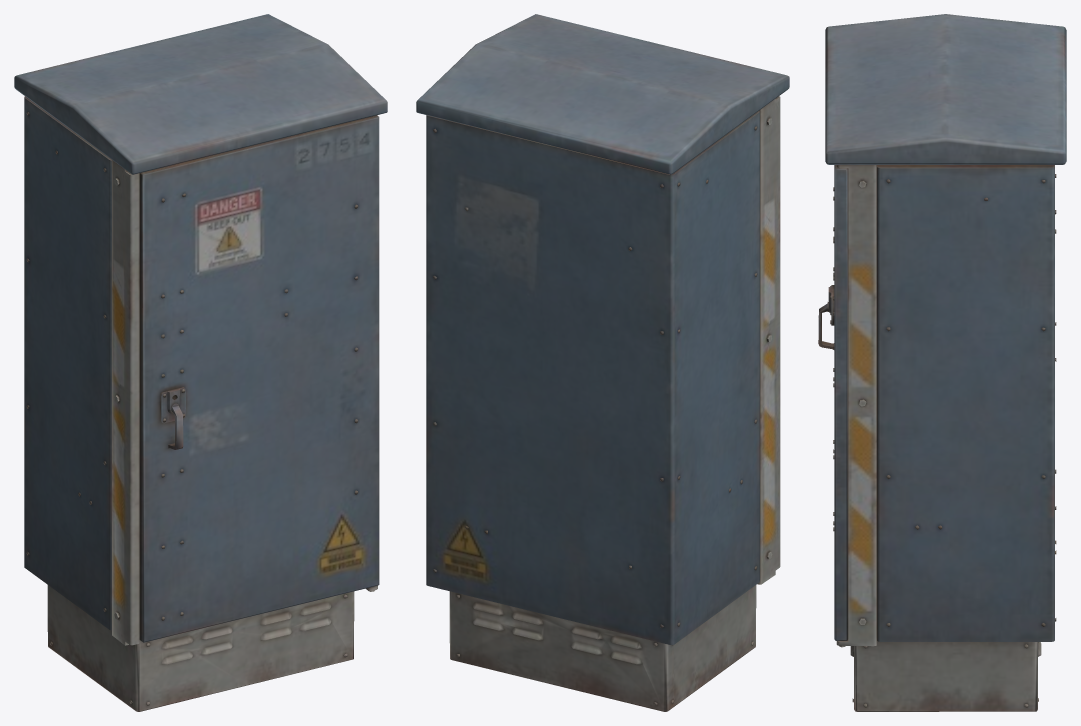
Rendered from utility_box_a.glb.
The picture shows the model from 3 angles, left to right: view 1: azimuth 30°, elevation 25°; view 2: azimuth 150°, elevation 25°; view 3: azimuth 270°, elevation 25°; orthographic projection.
Bounding box in the file's own units: 0.52 × 1.12 × 0.4319.
Materials: 1 (1 with a texture image).
